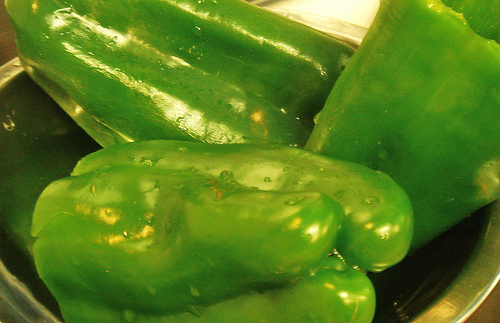capsicum: (30, 138, 415, 322), (2, 0, 358, 147), (302, 0, 499, 253)
